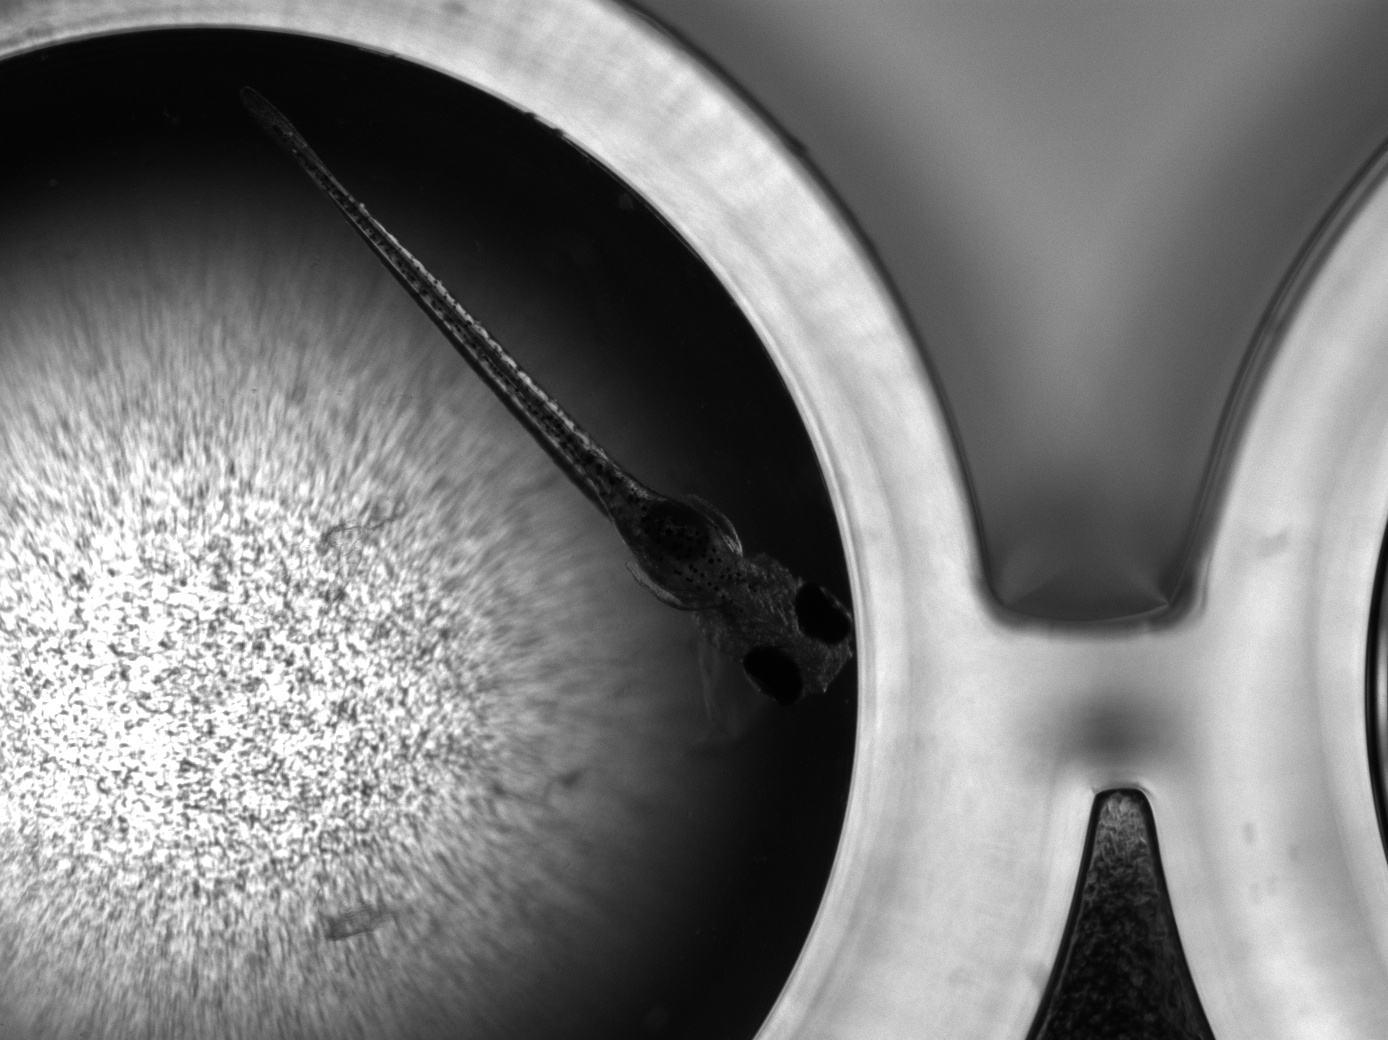embryo: (239, 83, 855, 702)
eye: (795, 582, 854, 647), (742, 646, 804, 702)
yolksac: (597, 453, 732, 608)
